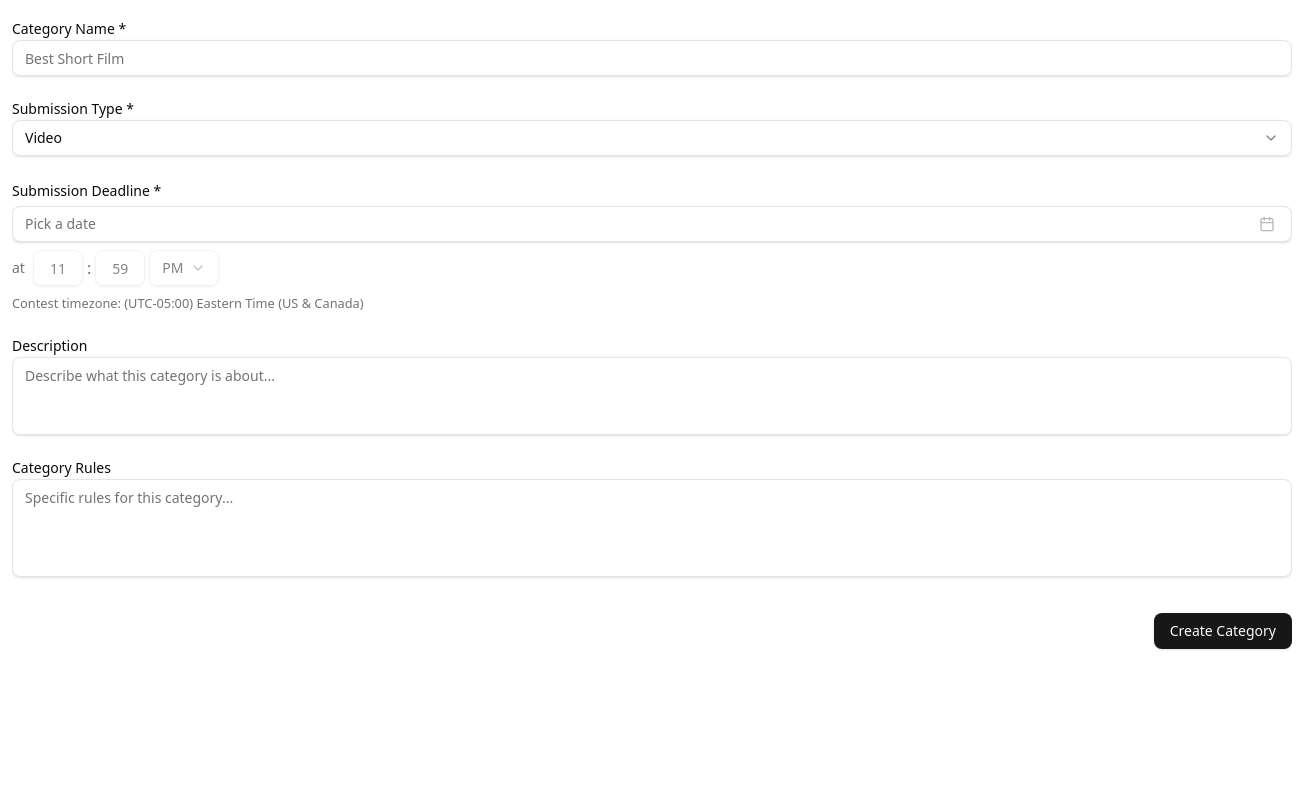
Test: CreateCategoryForm › shows validation error for missing deadline
Type "Test Category" into the field labelled "Category Name *" at coordinates (652, 58), box x1=12 y1=40 x2=1292 y2=76
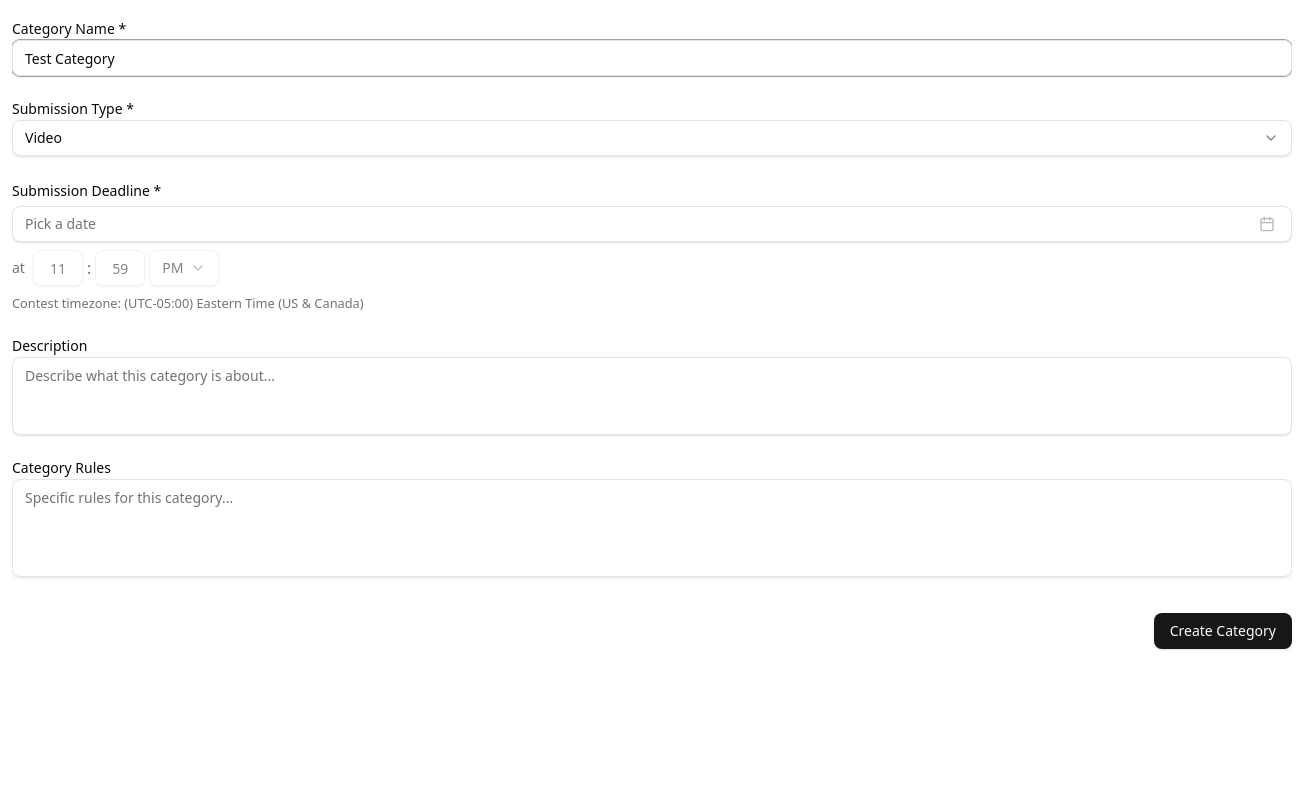
Click the button "Create Category" at coordinates (1223, 631), box x1=1154 y1=613 x2=1292 y2=649
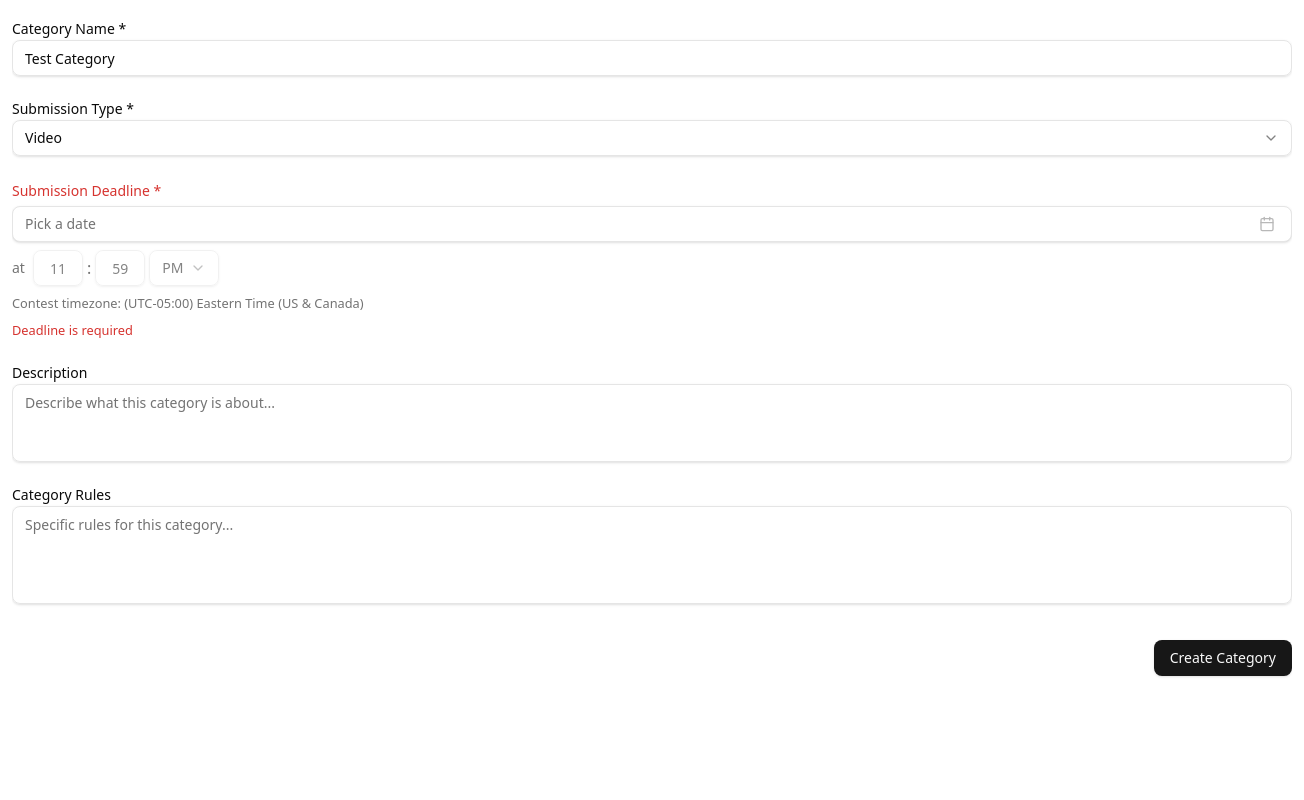
Now the text "Deadline is required" is shown, box x1=12 y1=321 x2=133 y2=339
